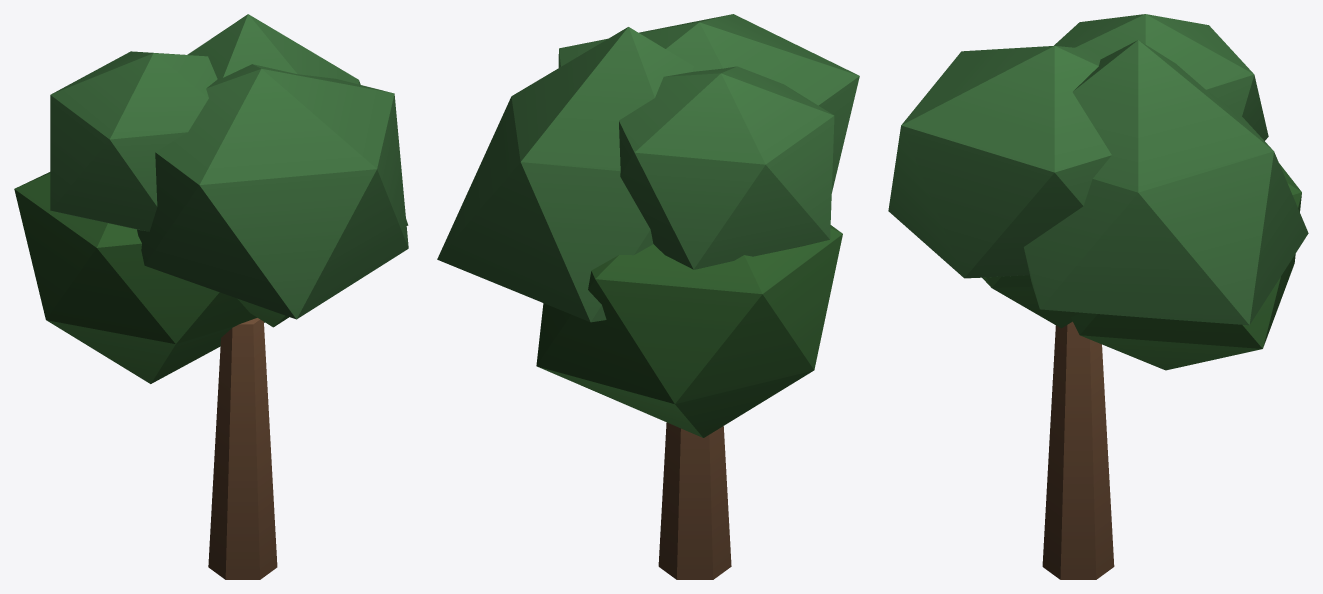
Rendered from tree_F.glb.
3 renders of one model, left to right at view 1: azimuth 30°, elevation 25°; view 2: azimuth 150°, elevation 25°; view 3: azimuth 270°, elevation 25°, orthographic. The views are drawn at different scales.
Parts seen in each view (by area): view 1: tree_F; view 2: tree_F; view 3: tree_F.
Boxes of the visible parts, x1=… form: tree_F: x1=14, y1=14, x2=408, y2=579; tree_F: x1=437, y1=14, x2=859, y2=579; tree_F: x1=888, y1=14, x2=1308, y2=579.
Size of the model in its own units: 1.08 by 1.67 by 1.17.
Materials: 1 (1 with a texture image).
